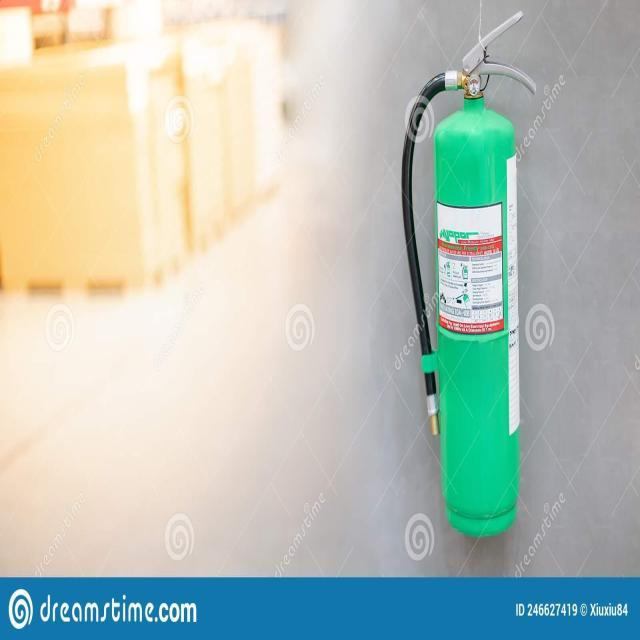FireExtinguisher: (397, 3, 543, 544)
